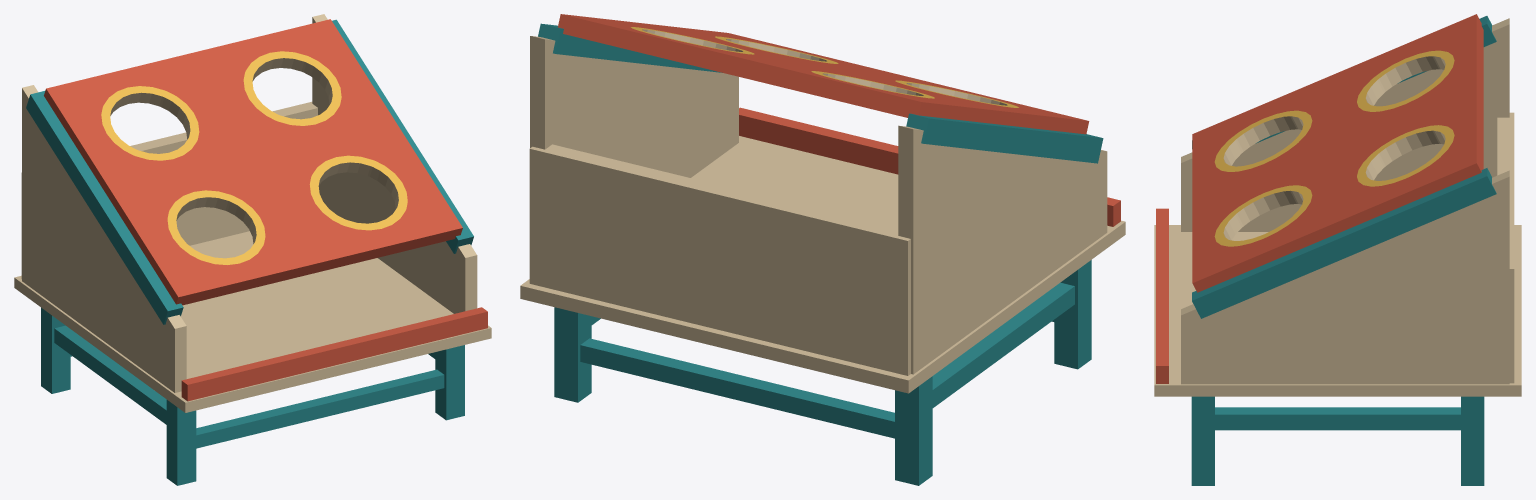
3 views of the same model, side by side, from view 1: azimuth 30°, elevation 25°; view 2: azimuth 150°, elevation 25°; view 3: azimuth 270°, elevation 25° (orthographic). The views are drawn at different scales.
Visible parts, largest first — view 1: TargetBoard_FourTrueThroughHoles, CollectionFloor_ContinuousSolid, CollectionSideCheek_Left, CollectionSideCheek_Right, CollectionFrontLowLip, InclinedRail_Left, CrossStretcher_Front, CollectionRearWall, SideStretcher_Left, Leg_Left_Front, Leg_Right_Front, Leg_Left_Back (+1 smaller); view 2: CollectionRearWall, CollectionSideCheek_Left, CollectionSideCheek_Right, CollectionFloor_ContinuousSolid, TargetBoard_FourTrueThroughHoles, CrossStretcher_Back, InclinedRail_Left, CollectionFrontLowLip, SideStretcher_Left, Leg_Left_Back, Leg_Right_Back, Leg_Left_Front (+1 smaller); view 3: TargetBoard_FourTrueThroughHoles, CollectionSideCheek_Right, CollectionFloor_ContinuousSolid, InclinedRail_Right, CollectionSideCheek_Left, SideStretcher_Right, CollectionRearWall, CollectionFrontLowLip, Leg_Right_Back, Leg_Right_Front, InclinedRail_Left.
Boxes of the visible parts, bbox=[...] form: TargetBoard_FourTrueThroughHoles: bbox=[44, 19, 462, 305]; CollectionFloor_ContinuousSolid: bbox=[14, 231, 491, 412]; CollectionSideCheek_Left: bbox=[22, 85, 186, 392]; CollectionSideCheek_Right: bbox=[312, 14, 477, 313]; CollectionFrontLowLip: bbox=[181, 307, 487, 401]; InclinedRail_Left: bbox=[26, 91, 183, 324]; CrossStretcher_Front: bbox=[196, 369, 444, 448]; CollectionRearWall: bbox=[21, 101, 317, 278]; SideStretcher_Left: bbox=[54, 325, 166, 424]; Leg_Left_Front: bbox=[166, 400, 196, 485]; Leg_Right_Front: bbox=[435, 345, 464, 420]; Leg_Left_Back: bbox=[41, 307, 70, 393]; CollectionRearWall: bbox=[529, 144, 910, 375]; CollectionSideCheek_Left: bbox=[898, 125, 1107, 374]; CollectionSideCheek_Right: bbox=[530, 36, 738, 177]; CollectionFloor_ContinuousSolid: bbox=[520, 136, 1125, 393]; TargetBoard_FourTrueThroughHoles: bbox=[558, 14, 1089, 134]; CrossStretcher_Back: bbox=[580, 338, 894, 438]; InclinedRail_Left: bbox=[906, 113, 1103, 163]; CollectionFrontLowLip: bbox=[739, 107, 1120, 226]; SideStretcher_Left: bbox=[932, 282, 1074, 407]; Leg_Left_Back: bbox=[895, 376, 932, 485]; Leg_Right_Back: bbox=[554, 307, 591, 402]; Leg_Left_Front: bbox=[1054, 260, 1091, 369]; TargetBoard_FourTrueThroughHoles: bbox=[1192, 14, 1483, 292]; CollectionSideCheek_Right: bbox=[1181, 170, 1509, 384]; CollectionFloor_ContinuousSolid: bbox=[1154, 225, 1521, 396]; InclinedRail_Right: bbox=[1192, 168, 1496, 318]; CollectionSideCheek_Left: bbox=[1181, 18, 1509, 231]; SideStretcher_Right: bbox=[1215, 407, 1460, 430]; CollectionRearWall: bbox=[1497, 112, 1514, 383]; CollectionFrontLowLip: bbox=[1156, 208, 1168, 383]; Leg_Right_Back: bbox=[1461, 396, 1484, 485]; Leg_Right_Front: bbox=[1191, 396, 1214, 485]; InclinedRail_Left: bbox=[1192, 16, 1496, 148].
Bounding box in the file's own units: 1.55 × 1.45 × 1.5.
